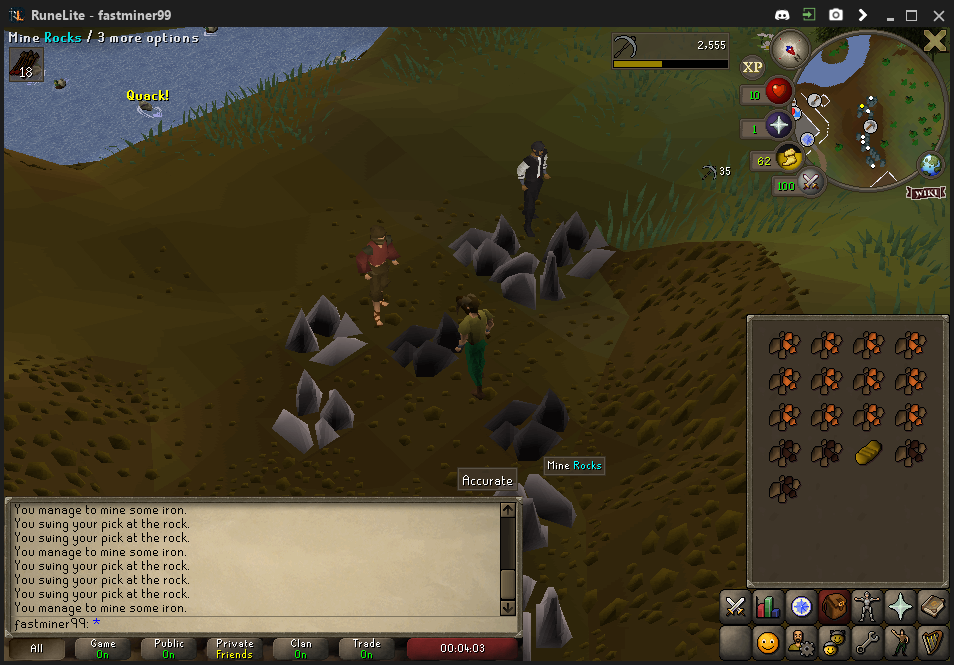depleted: (490, 387, 577, 458), (394, 309, 467, 376)
